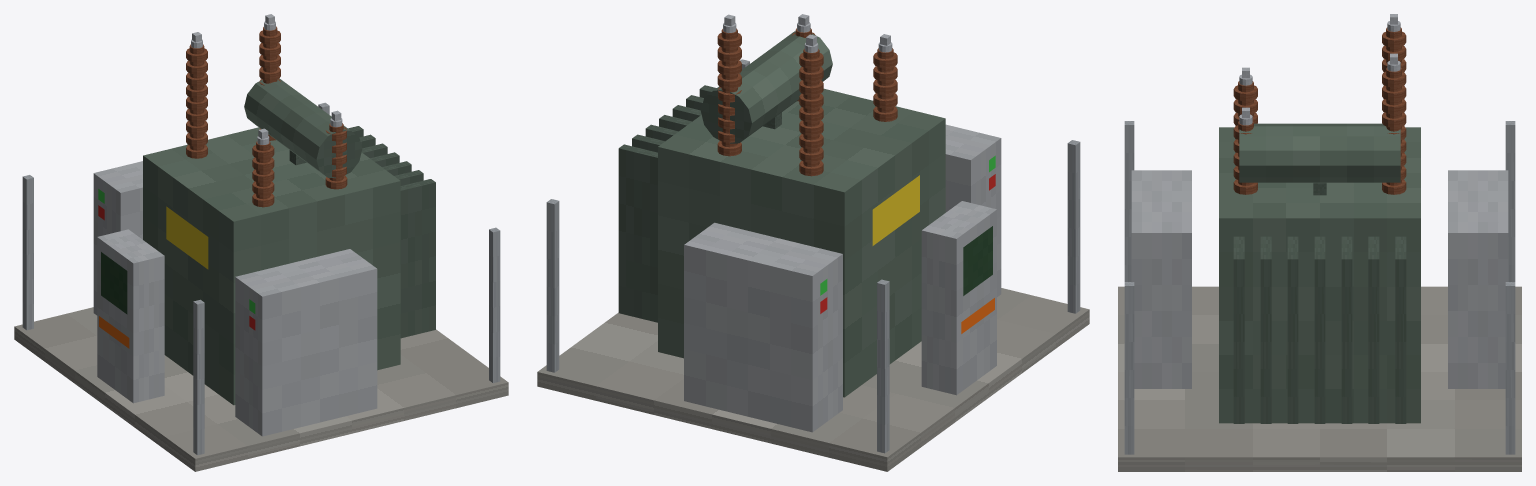
Rendered from substationstepup.obj.
The picture shows the model from 3 angles, left to right: view 1: azimuth 30°, elevation 25°; view 2: azimuth 150°, elevation 25°; view 3: azimuth 270°, elevation 25°; orthographic projection. The views are drawn at different scales.
Parts seen in each view (by area): view 1: main; view 2: main; view 3: main.
Part boxes in pixels (x1,y1,x2,y2): main: (14,21,508,471); main: (537,22,1089,471); main: (1118,21,1521,471).
Bounding box in the file's own units: 3 × 2.9 × 3.
1 material, 1 textured.
